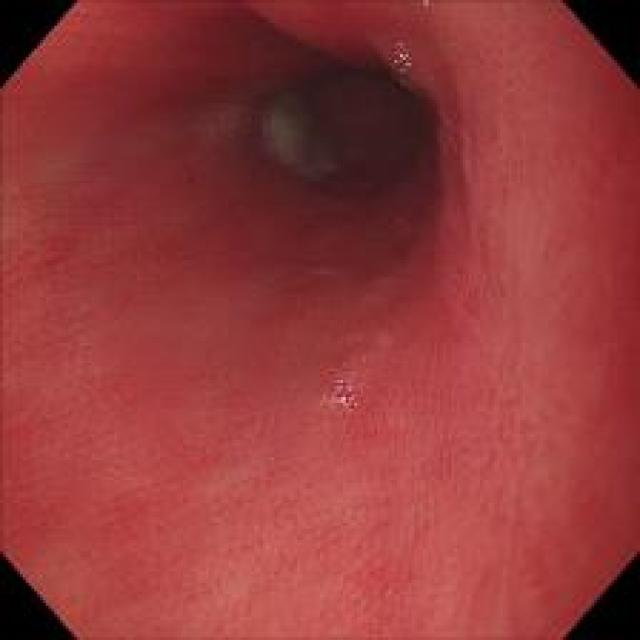color misalignment: (386, 38, 418, 84), (330, 375, 355, 404)
